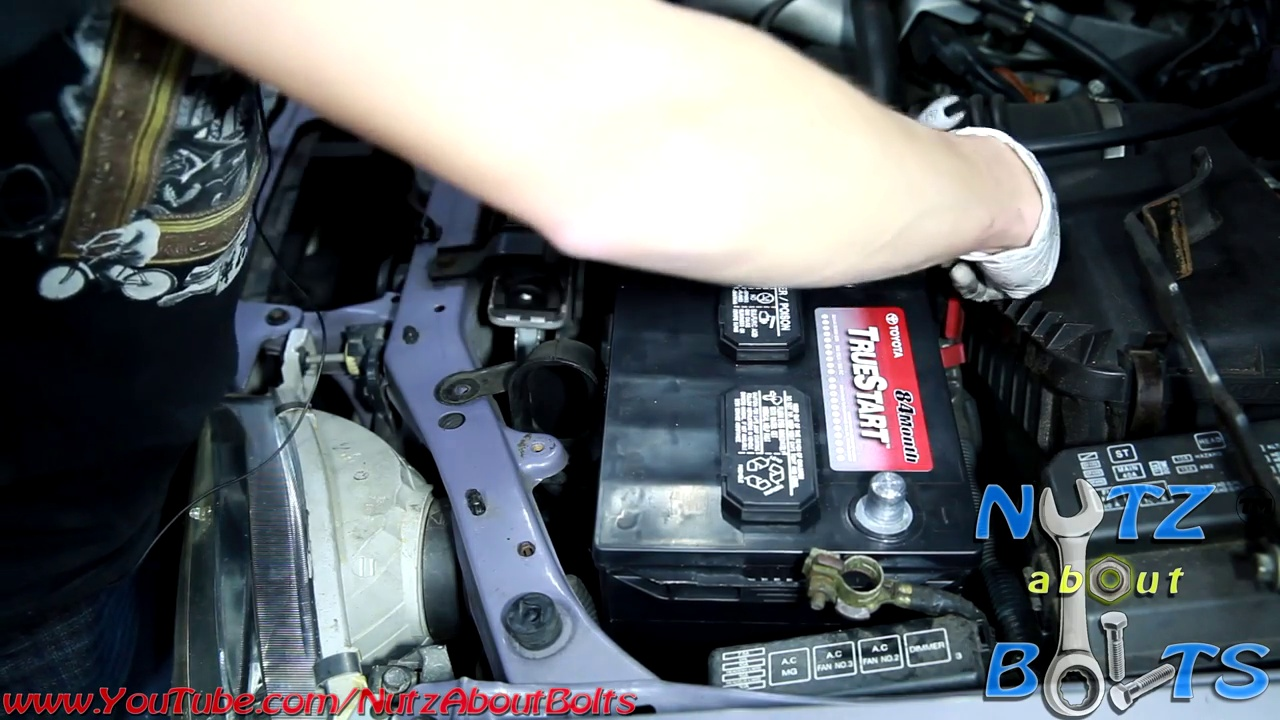battery: (597, 274, 994, 609)
